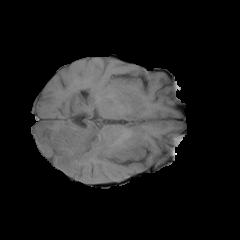glioma: (38, 90, 146, 182)
